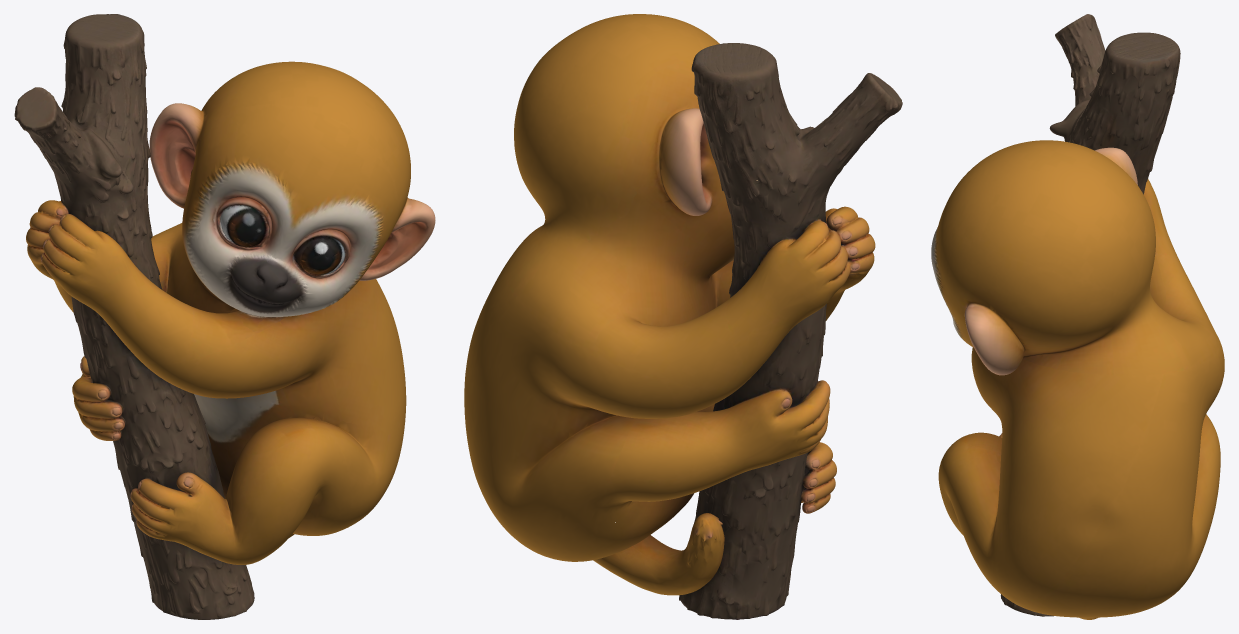
File: scimmietta.glb
The picture shows the model from 3 angles, left to right: view 1: azimuth 30°, elevation 25°; view 2: azimuth 150°, elevation 25°; view 3: azimuth 270°, elevation 25°; orthographic projection. The views are drawn at different scales.
Parts seen in each view (by area): view 1: tripo_node_503f6bcf-e79f-4ba4-8064-b3815e363f47; view 2: tripo_node_503f6bcf-e79f-4ba4-8064-b3815e363f47; view 3: tripo_node_503f6bcf-e79f-4ba4-8064-b3815e363f47.
Boxes of the visible parts, bbox=[...] form: tripo_node_503f6bcf-e79f-4ba4-8064-b3815e363f47: bbox=[14, 14, 435, 619]; tripo_node_503f6bcf-e79f-4ba4-8064-b3815e363f47: bbox=[464, 14, 902, 619]; tripo_node_503f6bcf-e79f-4ba4-8064-b3815e363f47: bbox=[931, 14, 1224, 619].
Size of the model in its own units: 0.7072 by 0.9807 by 0.4955.
Materials: 1 (1 with a texture image).
